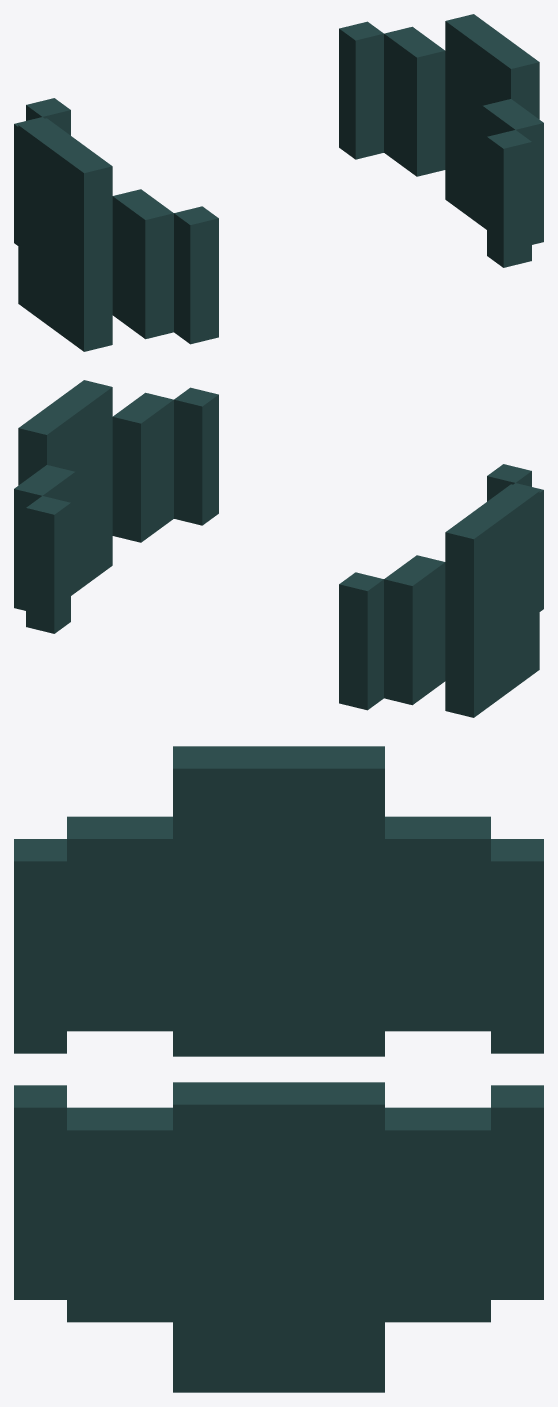
The model's file is Crystal_Ring_4.obj.
The picture shows the model from 3 angles, top to bottom: view 1: azimuth 30°, elevation 25°; view 2: azimuth 150°, elevation 25°; view 3: azimuth 270°, elevation 25°; orthographic projection. The views are drawn at different scales.
Size of the model in its own units: 0.4 by 0.15 by 0.25.
